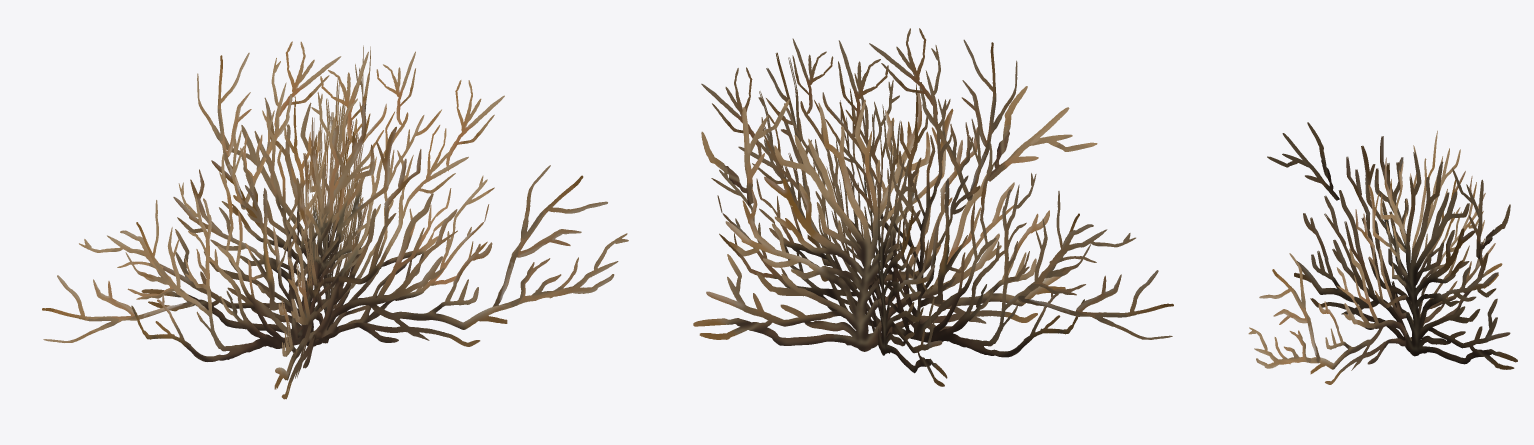
File: DryShrub2.FBX
The picture shows the model from 3 angles, left to right: view 1: azimuth 30°, elevation 25°; view 2: azimuth 150°, elevation 25°; view 3: azimuth 270°, elevation 25°; orthographic projection. The views are drawn at different scales.
Visible parts, largest first — view 1: DryShrub_2; view 2: DryShrub_2; view 3: DryShrub_2.
Part boxes in pixels (x1,y1,x2,y2): DryShrub_2: [42, 41, 628, 399]; DryShrub_2: [693, 28, 1173, 386]; DryShrub_2: [1248, 122, 1517, 384].
Bounding box in the file's own units: 23.72 × 14.73 × 13.01.
1 material, 1 textured.
